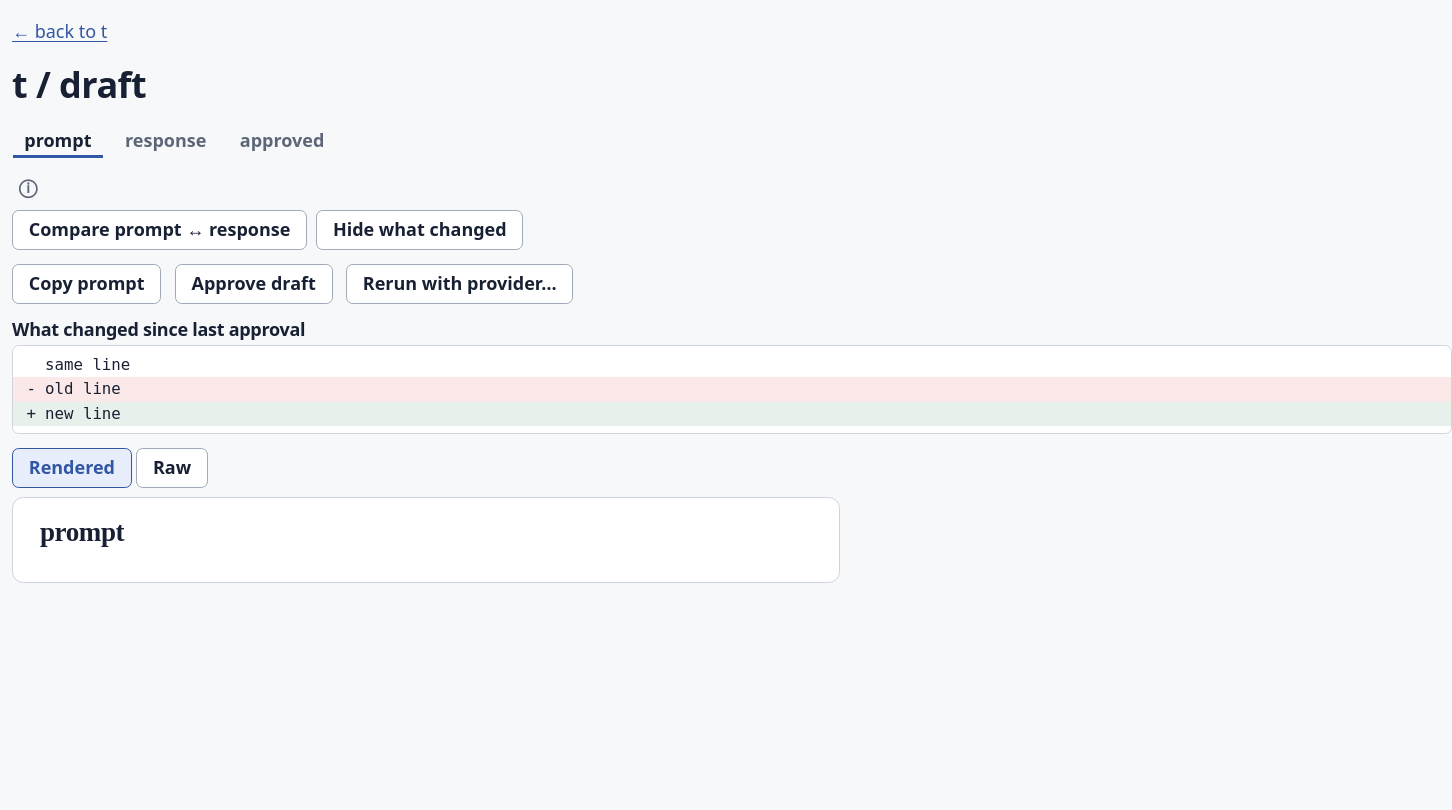
Test: StageViewerPage › keeps an explicitly hidden what-changed section hidden across poll refreshes
Expected: the element "What changed since last approval" is shown, x1=12 y1=318 x2=1451 y2=434
Click the button "Hide what changed". click: [420, 230]
box: x1=316 y1=210 x2=523 y2=250
Wait 5000 ms
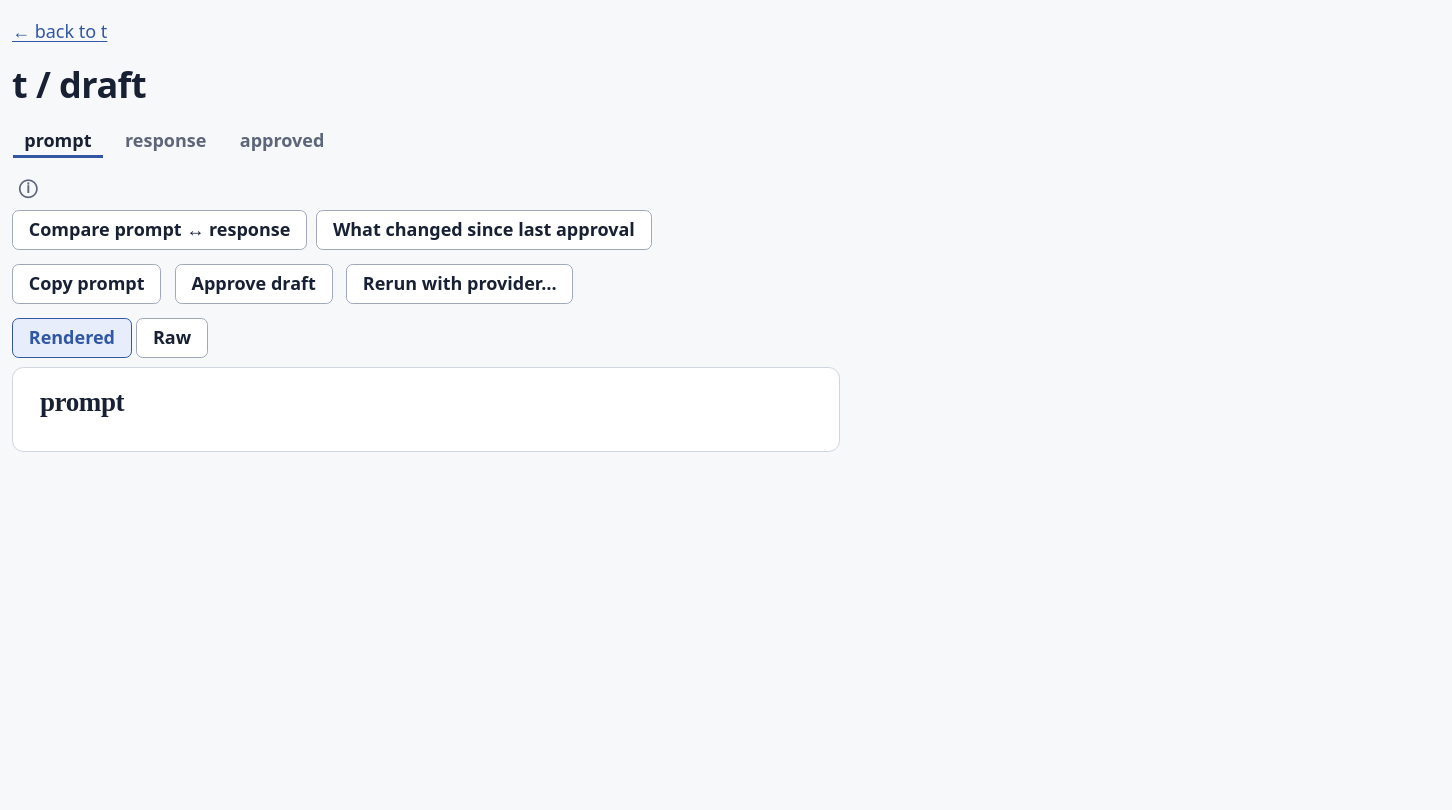
Click the button "What changed since last approval". click: [484, 230]
box: x1=316 y1=210 x2=652 y2=250
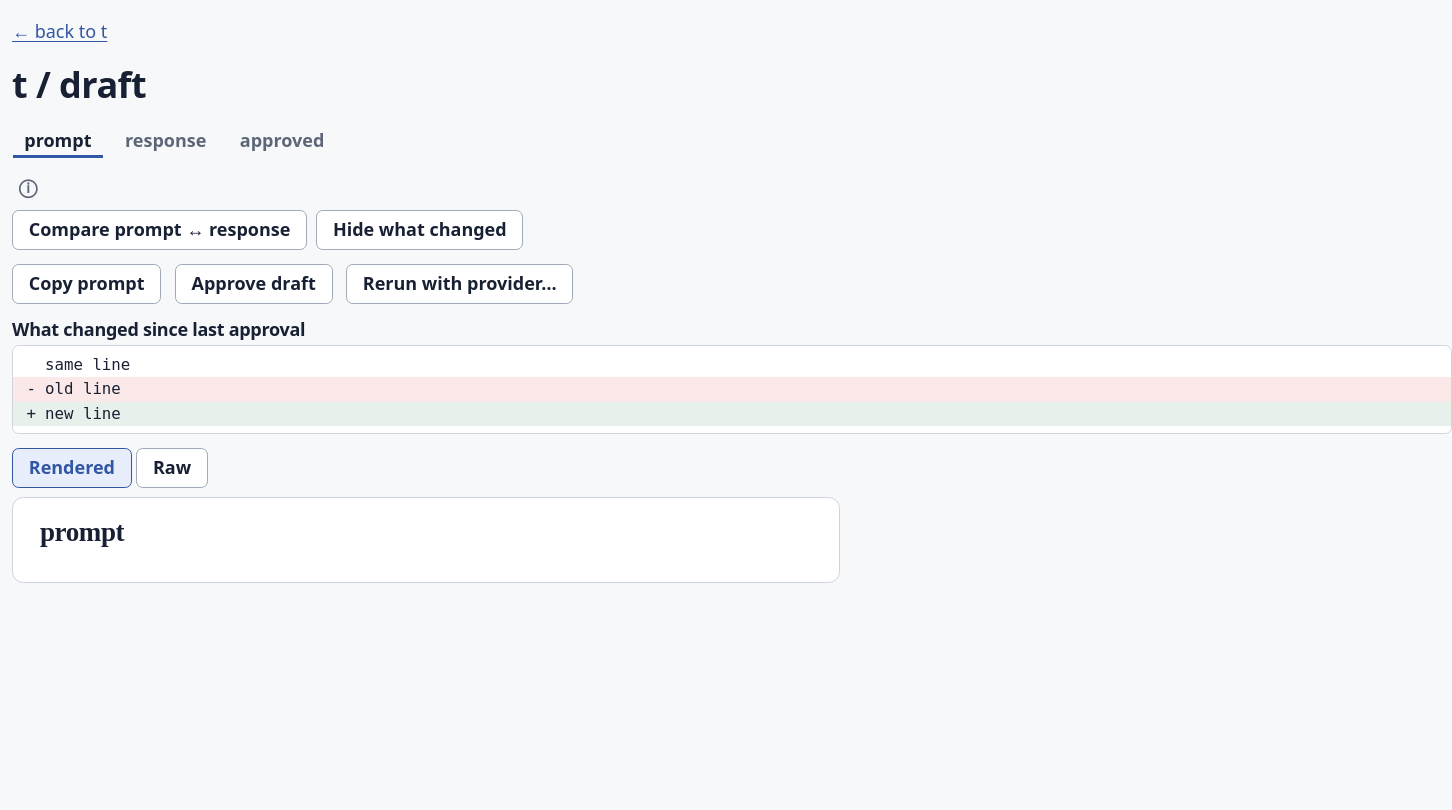
Expected: the element "What changed since last approval" is shown, x1=12 y1=318 x2=1451 y2=434
